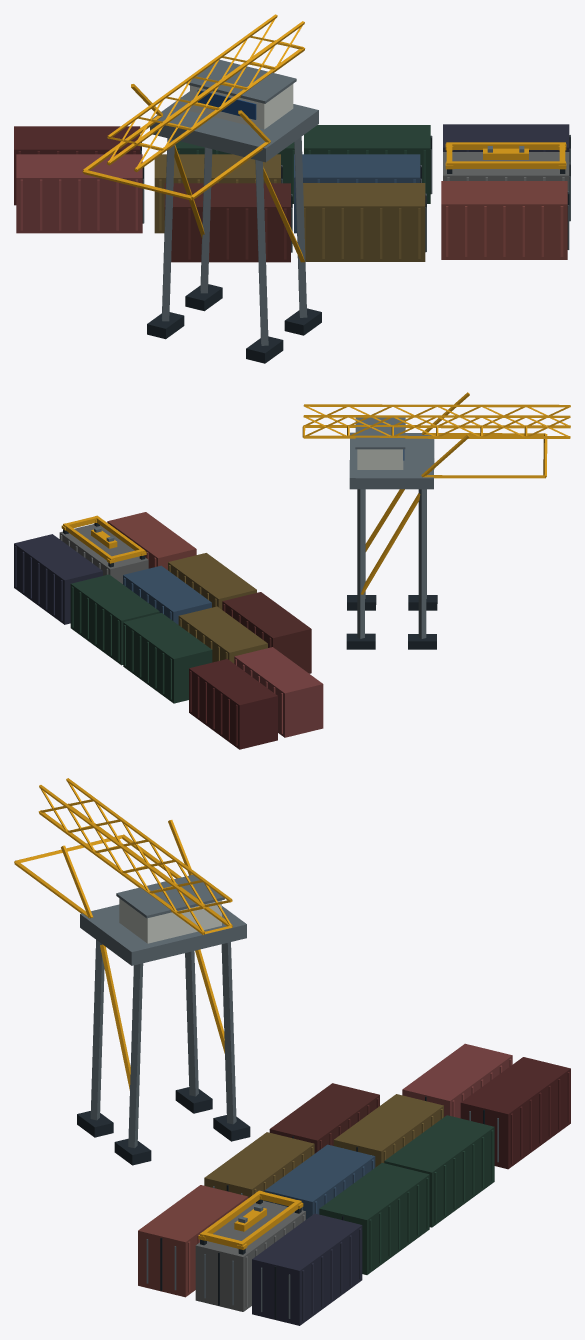
The model's file is gantry-crane-nw-se-10.glb.
3 renders of one model, top to bottom at view 1: azimuth 30°, elevation 25°; view 2: azimuth 150°, elevation 25°; view 3: azimuth 270°, elevation 25°, orthographic. The views are drawn at different scales.
Visible parts, largest first — view 1: gantry-crane-nw-se-10; view 2: gantry-crane-nw-se-10; view 3: gantry-crane-nw-se-10.
Boxes of the visible parts, <box> form: gantry-crane-nw-se-10: <box>14,14,570,363</box>; gantry-crane-nw-se-10: <box>14,392,570,749</box>; gantry-crane-nw-se-10: <box>14,778,570,1325</box>.
Size of the model in its own units: 69.8 by 31.18 by 58.68.
